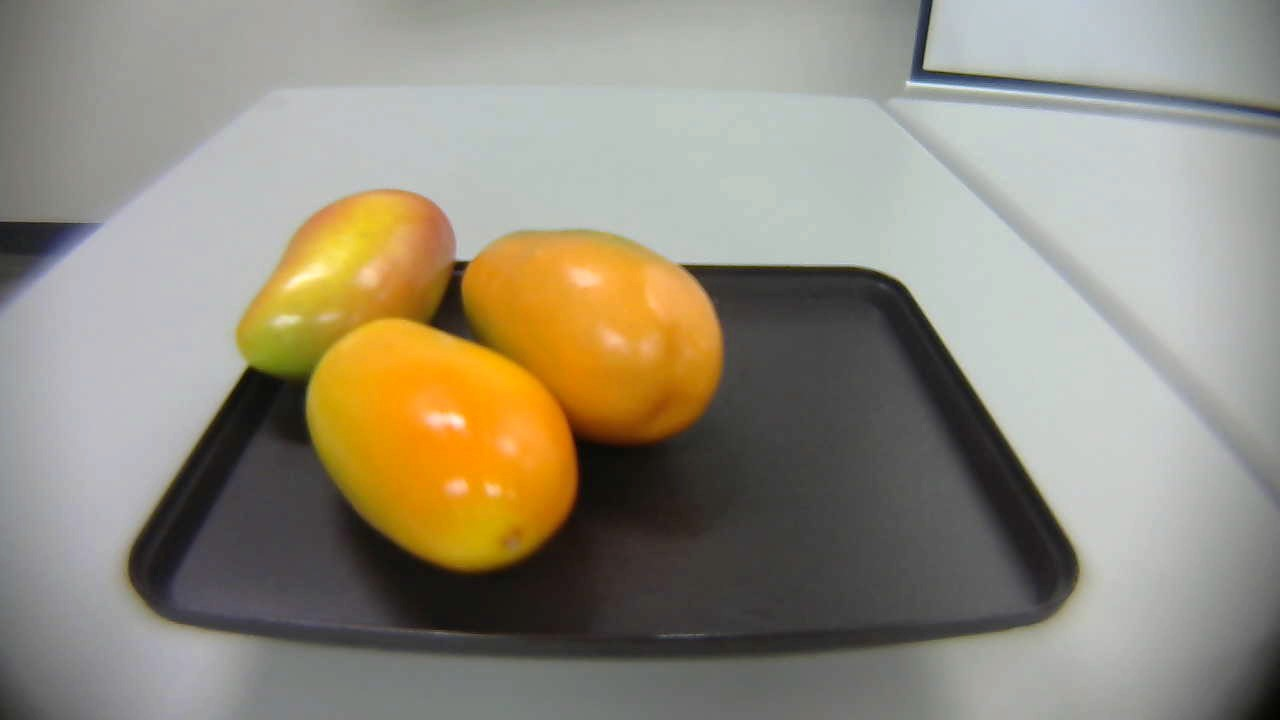papya: (446, 222, 734, 458)
red mango: (233, 182, 464, 390)
yellow mango: (299, 318, 576, 577)
